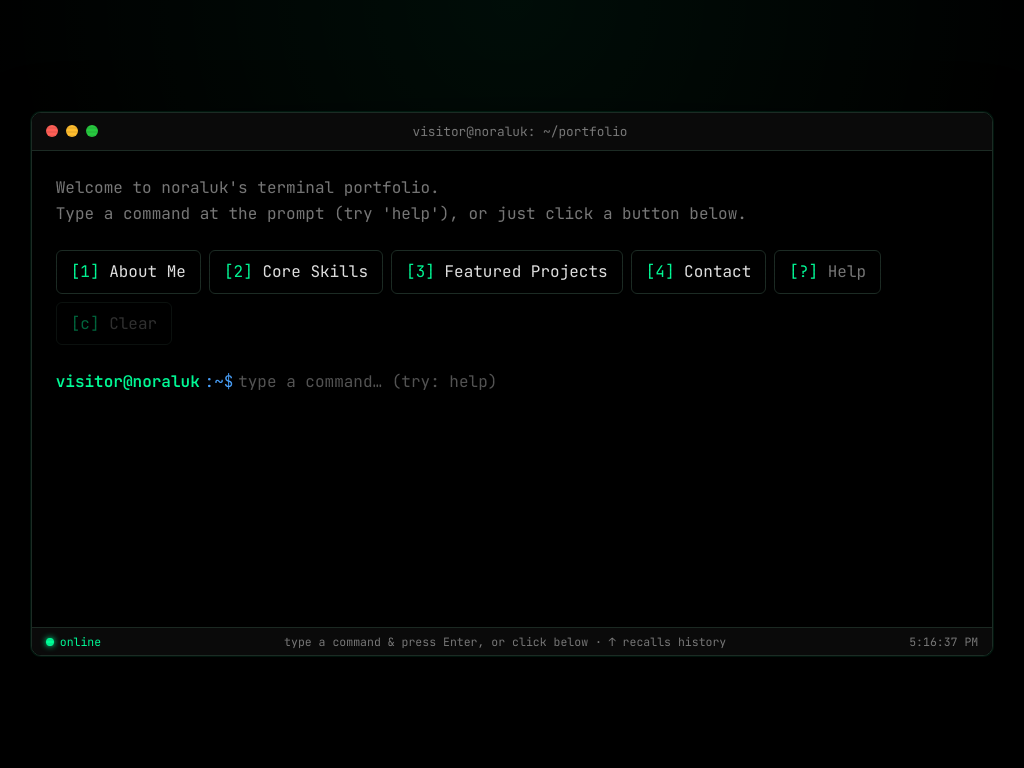
Test: Terminal (reduced motion) › returns to the main menu when exiting projects
Click the button "[3] Featured Projects": click(507, 272) [391,250,623,294]
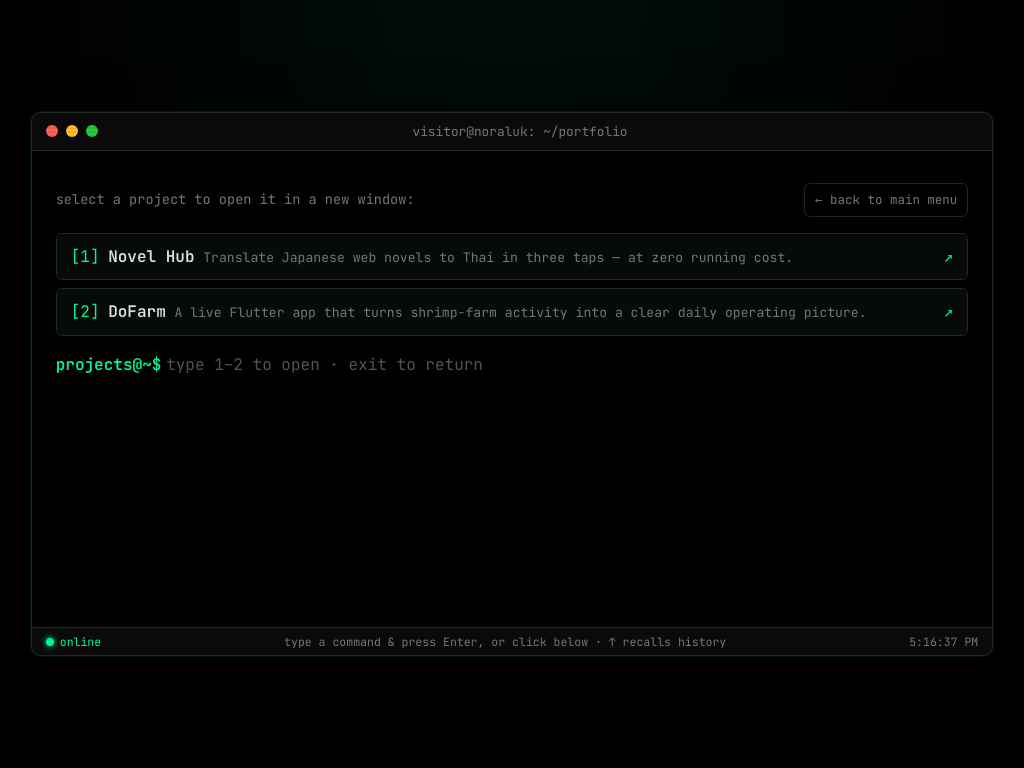
Click the button "← back to main menu": click(886, 200) [804,183,968,217]
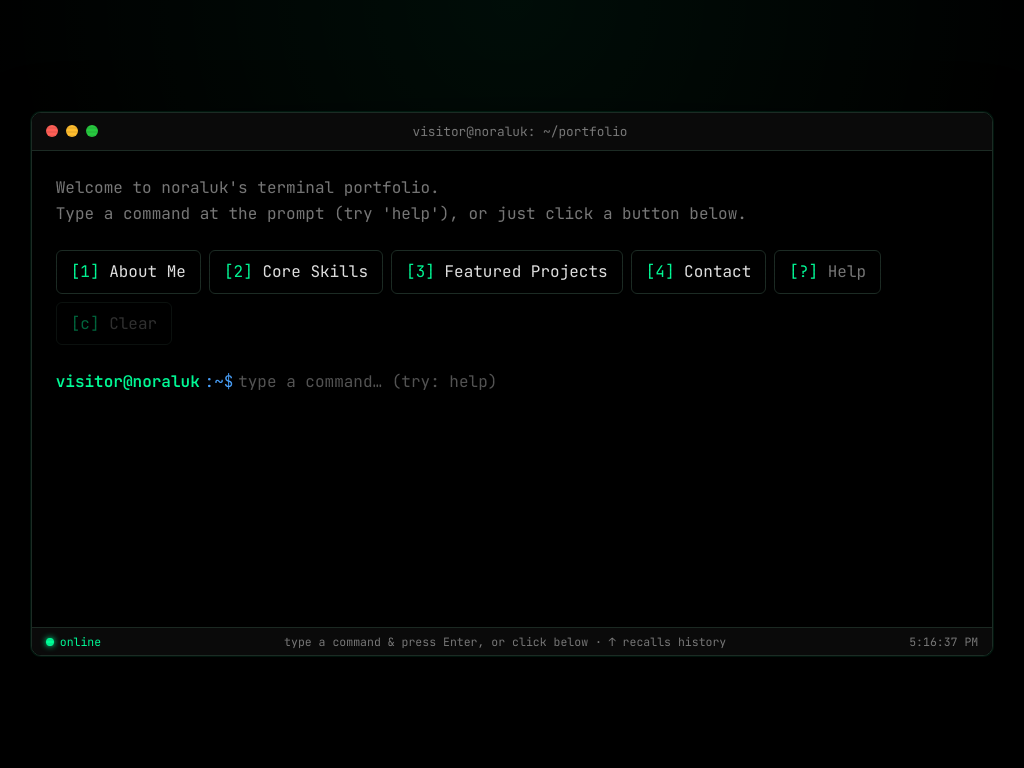
expect the button "[1] About Me" is shown: met, box [56,250,201,294]
